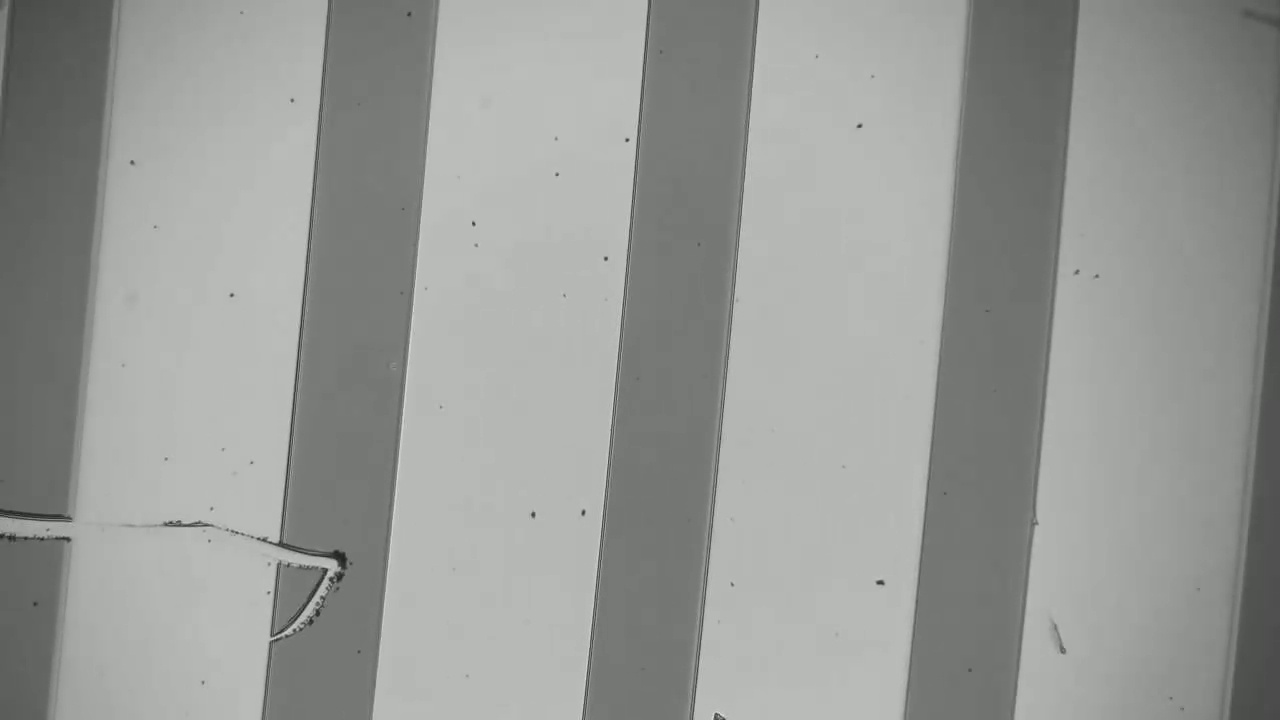Short_circuit: (253, 517, 416, 592)
